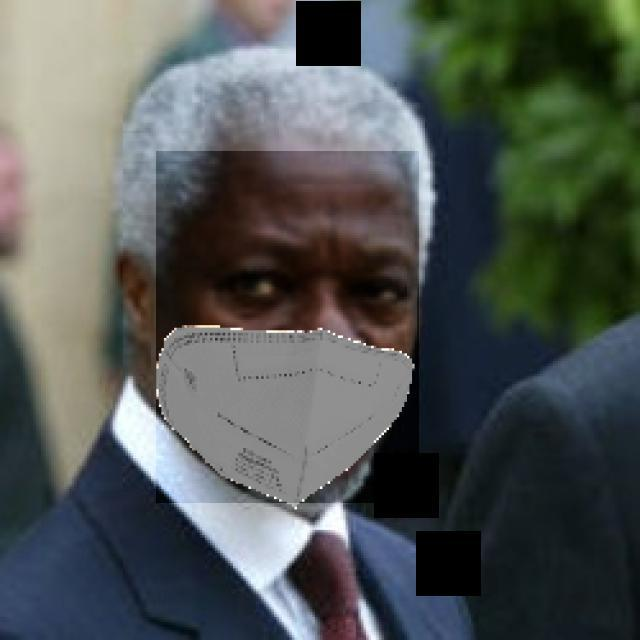kn95: (156, 151, 419, 503)
